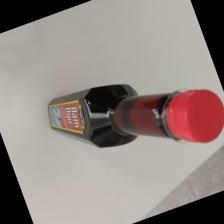Namngu: (47, 83, 224, 148)
